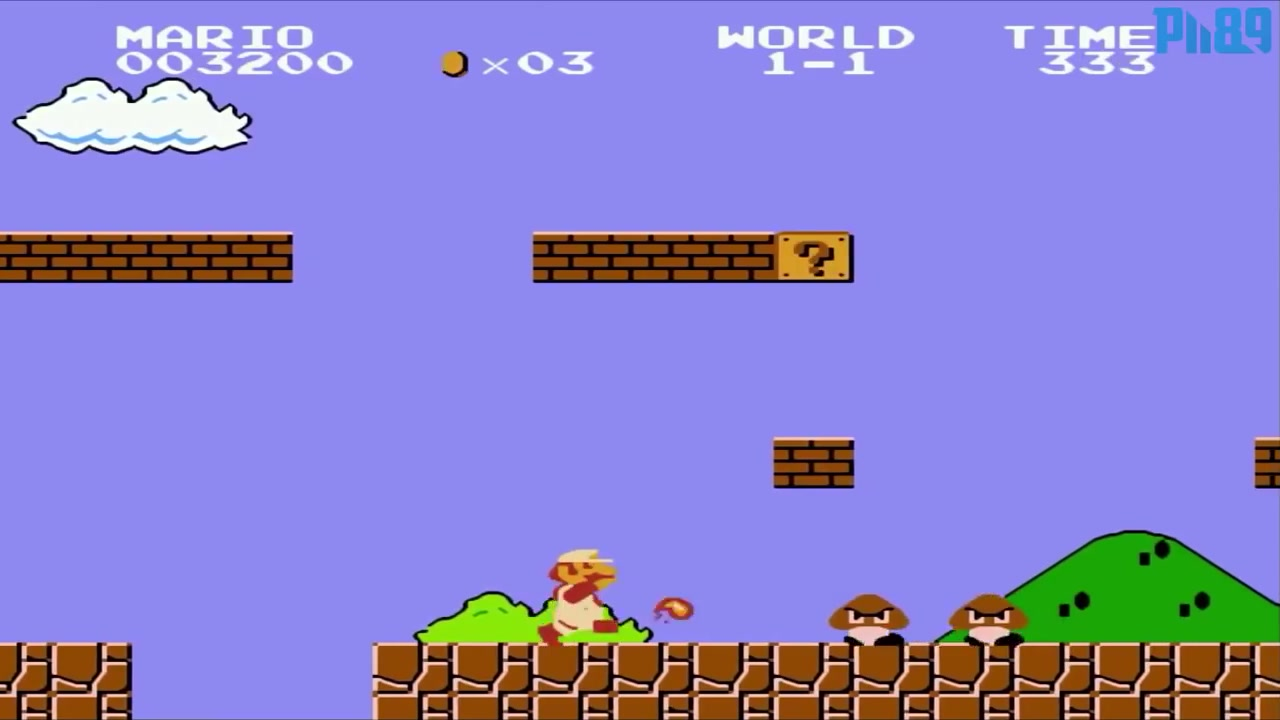mario: (533, 541, 624, 649)
